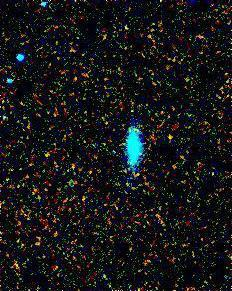star: (154, 123, 184, 153)
